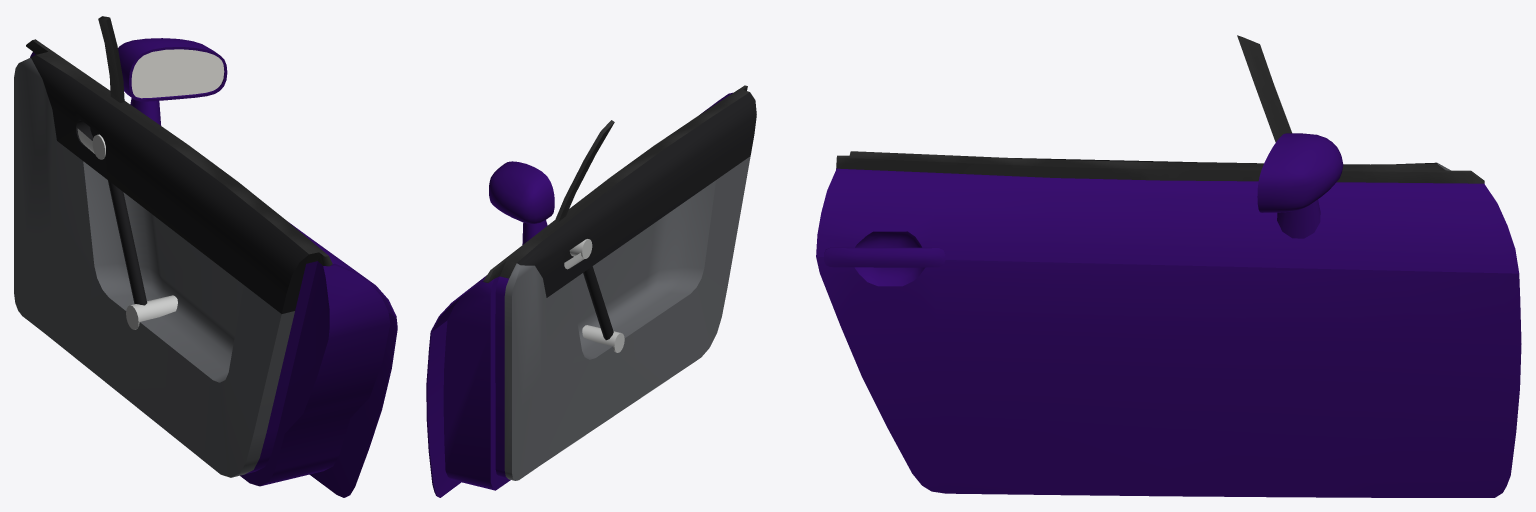
File: doorr.glb
The picture shows the model from 3 angles, left to right: view 1: azimuth 30°, elevation 25°; view 2: azimuth 150°, elevation 25°; view 3: azimuth 270°, elevation 25°; orthographic projection. The views are drawn at different scales.
Parts seen in each view (by area): view 1: Door R; view 2: Door R; view 3: Door R.
Part boxes in pixels (x1,y1,x2,y2): Door R: (14,16,397,497); Door R: (426,85,756,497); Door R: (816,35,1521,497).
Size of the model in its own units: 0.2941 by 0.8716 by 1.29.
3 materials, 2 textured.
